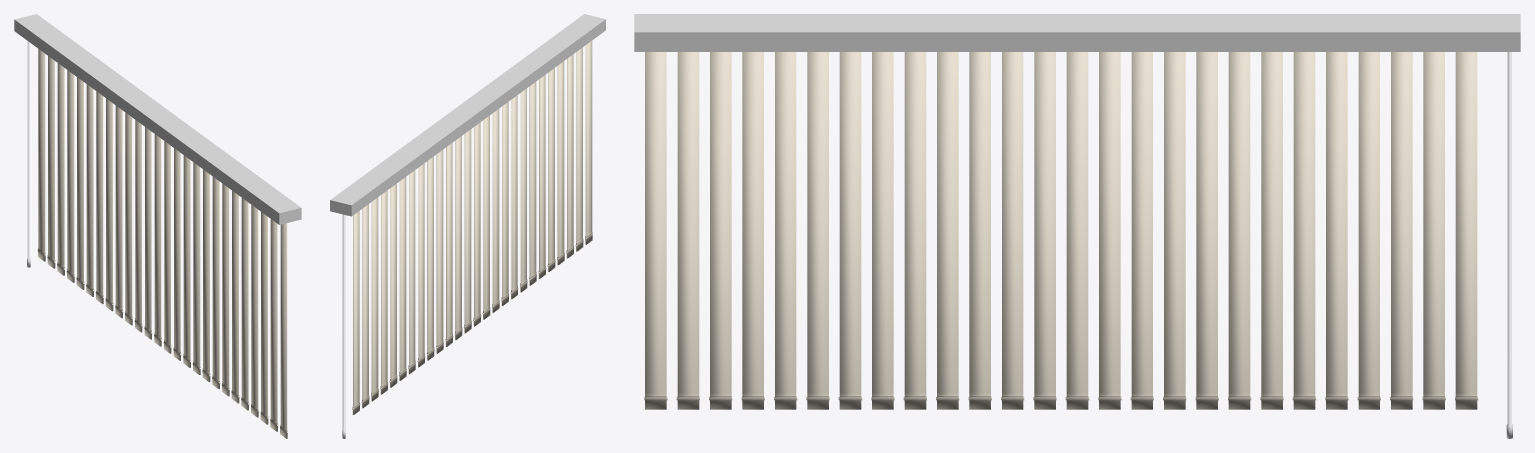
The model's file is Blinds.fbx.
3 renders of one model, left to right at view 1: azimuth 30°, elevation 25°; view 2: azimuth 150°, elevation 25°; view 3: azimuth 270°, elevation 25°, orthographic. The views are drawn at different scales.
Parts seen in each view (by area): view 1: WindowBlinds, WindowBlind.001, WindowBlind.018, WindowBlind.008, WindowBlind.020, WindowBlind.021, WindowBlind.023, WindowBlind.002, WindowBlind.007, WindowBlind.010, WindowBlind.005, WindowBlind.011 (+16 smaller); view 2: WindowBlinds, WindowBlind.004, WindowBlind.011, WindowBlind.014, WindowBlind.017, WindowBlind.001, WindowBlind.007, WindowBlind.021, WindowBlind.024, WindowBlind.023, WindowBlind.005, WindowBlind.002 (+16 smaller); view 3: WindowBlinds, WindowBlind.007, WindowBlind.014, WindowBlind.021, WindowBlind.002, WindowBlind.009, WindowBlind.019, WindowBlind.026, WindowBlind.001, WindowBlind.006, WindowBlind.008, WindowBlind.013 (+16 smaller).
Boxes of the visible parts, bbox=[...] form: WindowBlinds: bbox=[14, 14, 301, 224]; WindowBlind.001: bbox=[280, 223, 287, 438]; WindowBlind.018: bbox=[115, 105, 123, 318]; WindowBlind.008: bbox=[212, 176, 220, 389]; WindowBlind.020: bbox=[95, 91, 103, 304]; WindowBlind.021: bbox=[86, 84, 94, 296]; WindowBlind.023: bbox=[66, 70, 74, 282]; WindowBlind.002: bbox=[270, 219, 278, 431]; WindowBlind.007: bbox=[221, 183, 229, 396]; WindowBlind.010: bbox=[192, 162, 200, 374]; WindowBlind.005: bbox=[241, 198, 249, 410]; WindowBlind.011: bbox=[183, 155, 190, 367]; WindowBlinds: bbox=[330, 14, 605, 216]; WindowBlind.004: bbox=[557, 61, 564, 265]; WindowBlind.011: bbox=[492, 109, 499, 312]; WindowBlind.014: bbox=[464, 129, 471, 333]; WindowBlind.017: bbox=[436, 150, 443, 353]; WindowBlind.001: bbox=[585, 41, 592, 244]; WindowBlind.007: bbox=[529, 82, 536, 285]; WindowBlind.021: bbox=[399, 177, 406, 380]; WindowBlind.024: bbox=[371, 197, 378, 401]; WindowBlind.023: bbox=[380, 190, 388, 394]; WindowBlind.005: bbox=[547, 68, 555, 271]; WindowBlind.002: bbox=[575, 47, 583, 251]; WindowBlinds: bbox=[634, 14, 1520, 51]; WindowBlind.007: bbox=[838, 52, 862, 409]; WindowBlind.014: bbox=[1065, 52, 1089, 409]; WindowBlind.021: bbox=[1292, 52, 1316, 409]; WindowBlind.002: bbox=[676, 52, 699, 409]; WindowBlind.009: bbox=[903, 52, 926, 409]; WindowBlind.019: bbox=[1228, 52, 1251, 409]; WindowBlind.026: bbox=[1455, 52, 1478, 409]; WindowBlind.001: bbox=[644, 52, 667, 409]; WindowBlind.006: bbox=[806, 52, 829, 409]; WindowBlind.008: bbox=[871, 52, 894, 409]; WindowBlind.013: bbox=[1033, 52, 1056, 409].
Bounding box in the file's own units: 50 × 529 × 1025.
Materials: 3 (2 with a texture image).
